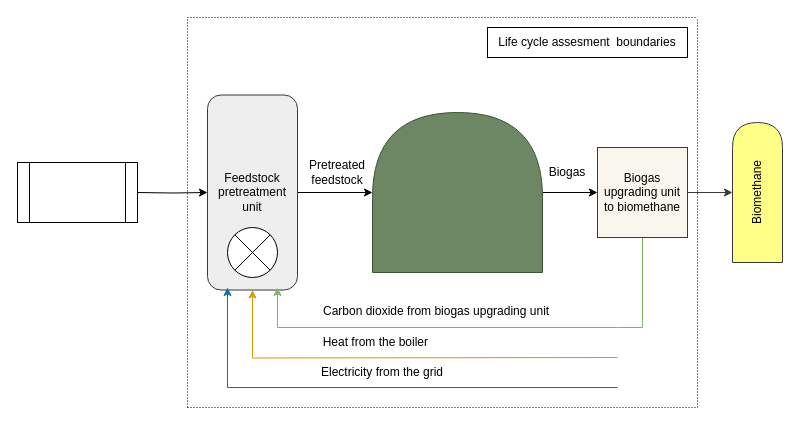
The diagram is 800 pixels wide and 426 high, and some of its shapes have lost their labels. The shapes that lost their labels are listed below. From the top down, each one's centre as x and y in pixels, then its label:
At [77,192]: "Feedstock".
At [457,192]: "CSTR biogas digester".
